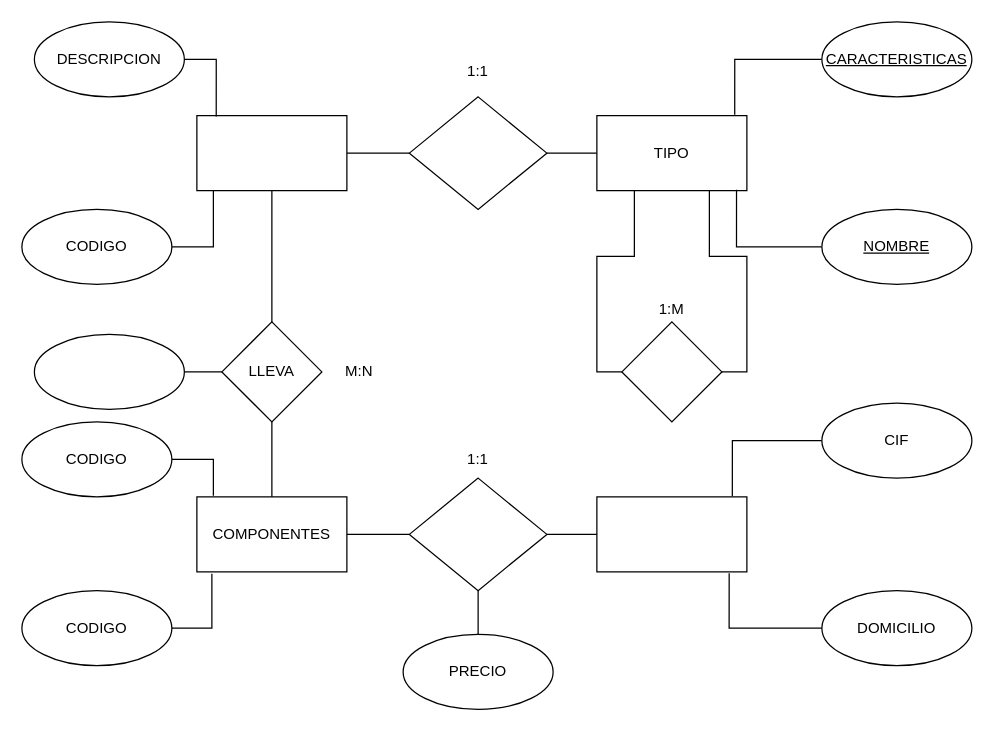
Some shapes in this 994 by 731 pixel diagram are drawn without their labels. Here are the shapes that lost their labels. From the top down, the box of each, then its label:
(196, 114, 347, 191): APARATO
(408, 96, 547, 209): CORRESPONDE
(33, 333, 184, 409): CANTIDAD
(621, 321, 722, 422): OTRO TIPO
(408, 477, 547, 591): SUMINISTRA
(596, 496, 747, 572): FABRICANTES
